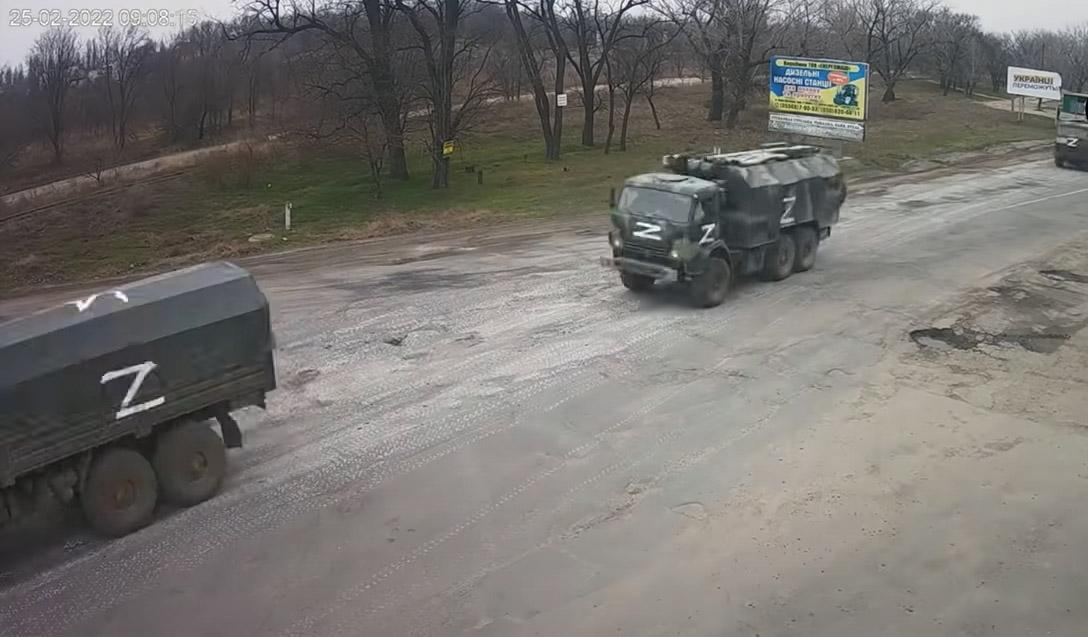truck: (0, 235, 284, 565), (596, 146, 846, 314), (1056, 115, 1088, 188)
